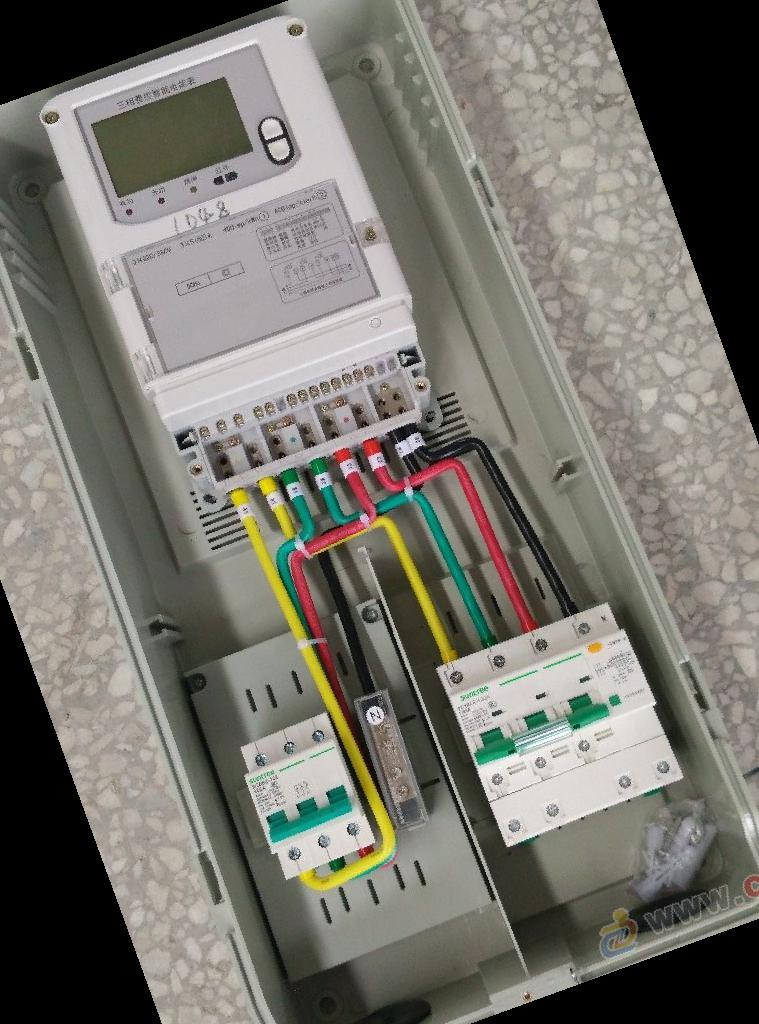digital: (43, 17, 413, 390)
